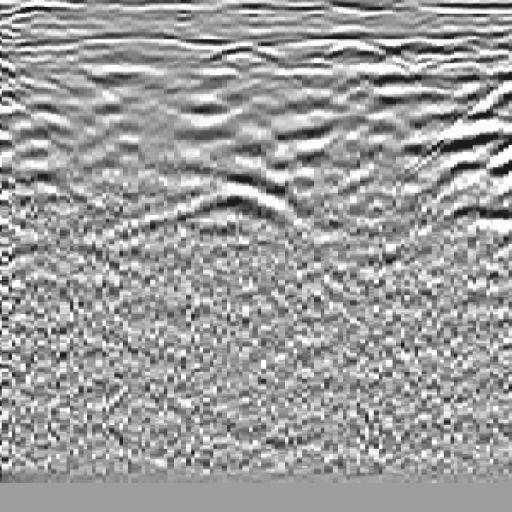metalic: (152, 38, 332, 262)
nonmetalic: (421, 49, 512, 265)
